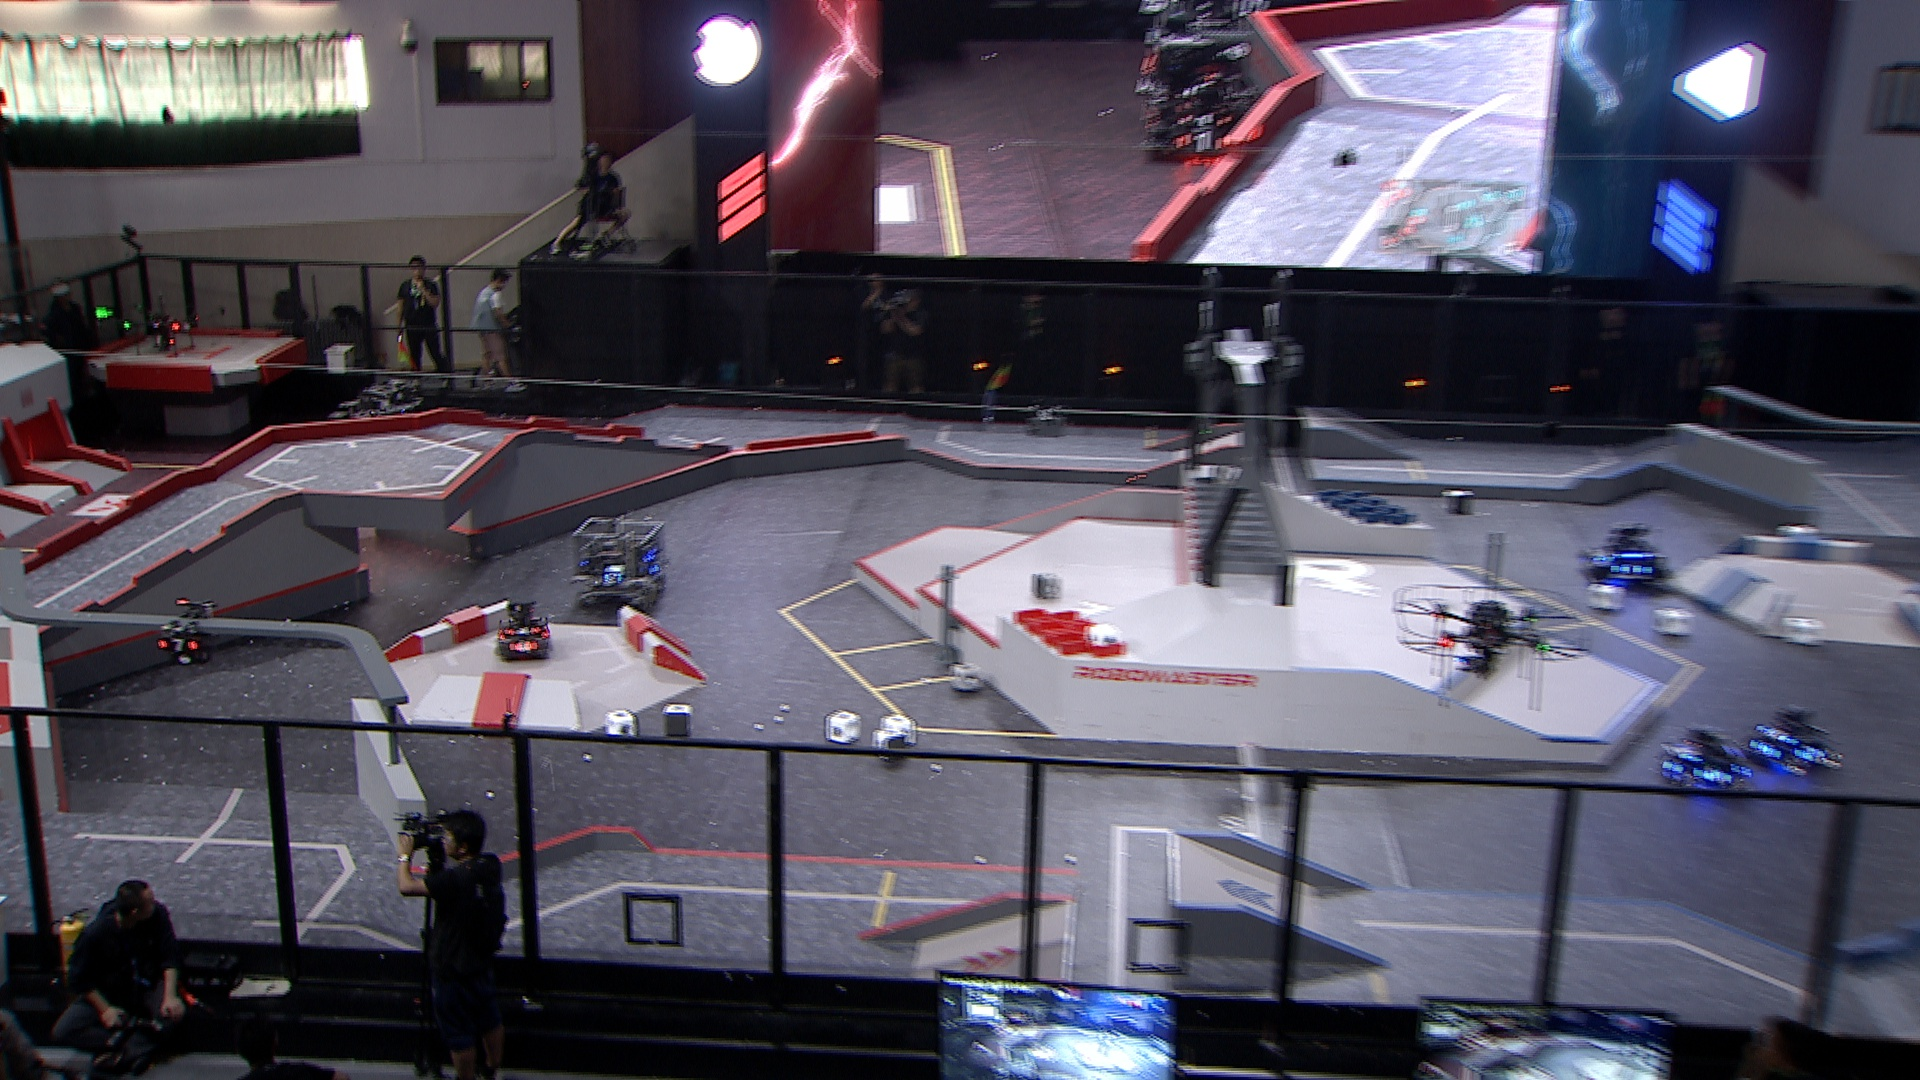armor: (157, 636, 200, 654), (1693, 766, 1733, 785), (1609, 560, 1651, 578), (1751, 740, 1782, 760), (1795, 744, 1822, 764), (1760, 727, 1793, 742), (500, 624, 542, 636), (1669, 744, 1698, 761), (509, 638, 537, 655), (1658, 760, 1684, 775), (600, 571, 624, 585)
car: (571, 516, 667, 612), (334, 378, 425, 460), (1745, 705, 1842, 775), (1651, 725, 1749, 794), (1577, 522, 1673, 589), (495, 597, 553, 662)
ignore: (1131, 0, 1265, 162)
watcher: (156, 597, 216, 665)
